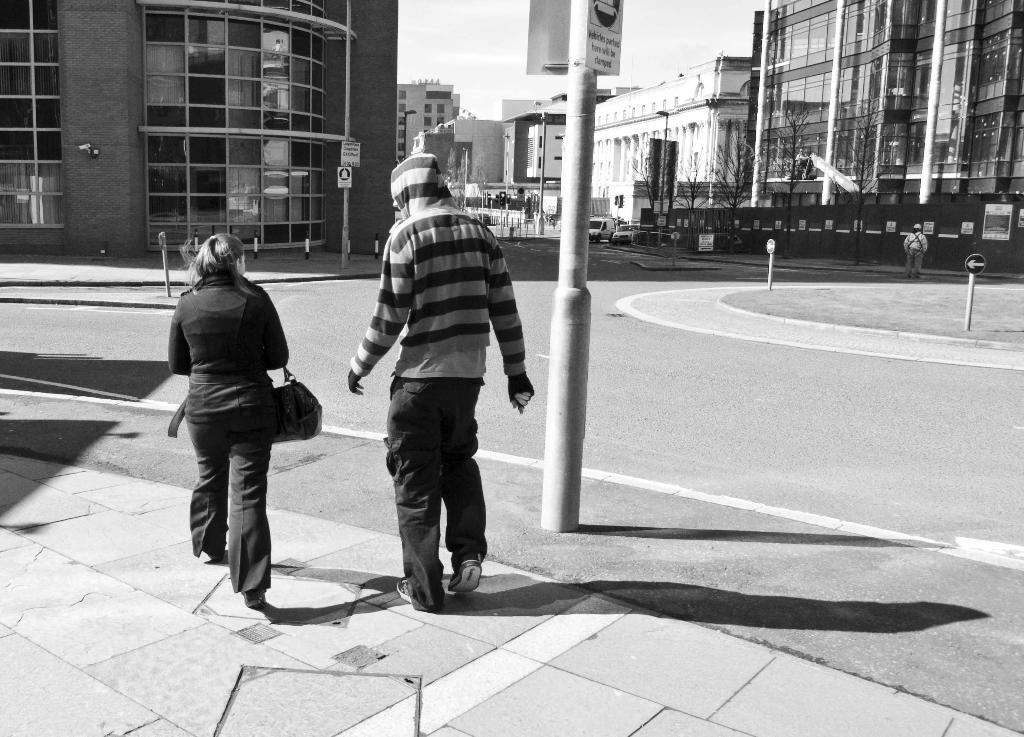Footwear: (399, 548, 486, 613), (243, 586, 266, 610)
